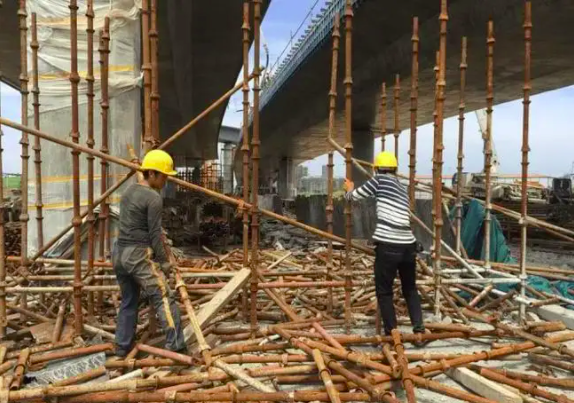person: (104, 152, 197, 351), (343, 151, 426, 338)
